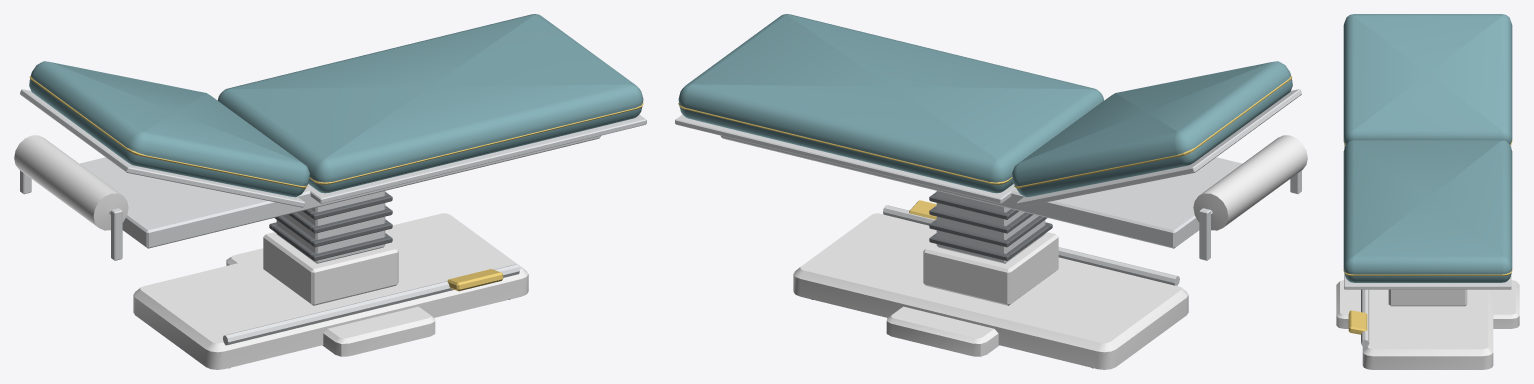
File: clinic-and-veterinary-practice-examination-couch-adjus-1f1c58ff__16748.glb
3 renders of one model, left to right at view 1: azimuth 30°, elevation 25°; view 2: azimuth 150°, elevation 25°; view 3: azimuth 270°, elevation 25°, orthographic. The views are drawn at different scales.
Parts seen in each view (by area): view 1: examination-couch-adjustable-low; view 2: examination-couch-adjustable-low; view 3: examination-couch-adjustable-low.
Boxes of the visible parts, left/top/right/bottom form: examination-couch-adjustable-low: left=14, top=14, right=646, bottom=369; examination-couch-adjustable-low: left=675, top=14, right=1307, bottom=369; examination-couch-adjustable-low: left=1336, top=14, right=1519, bottom=369.
Size of the model in its own units: 1.85 by 0.8737 by 0.6999.
